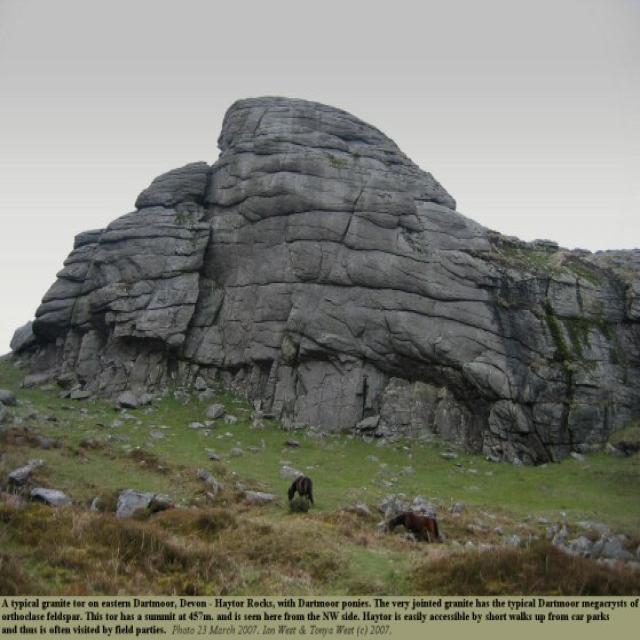Igneous: (1, 90, 636, 447)
